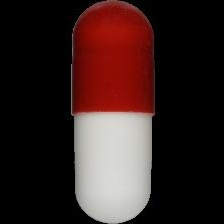42549-612: (0, 0, 224, 224)
